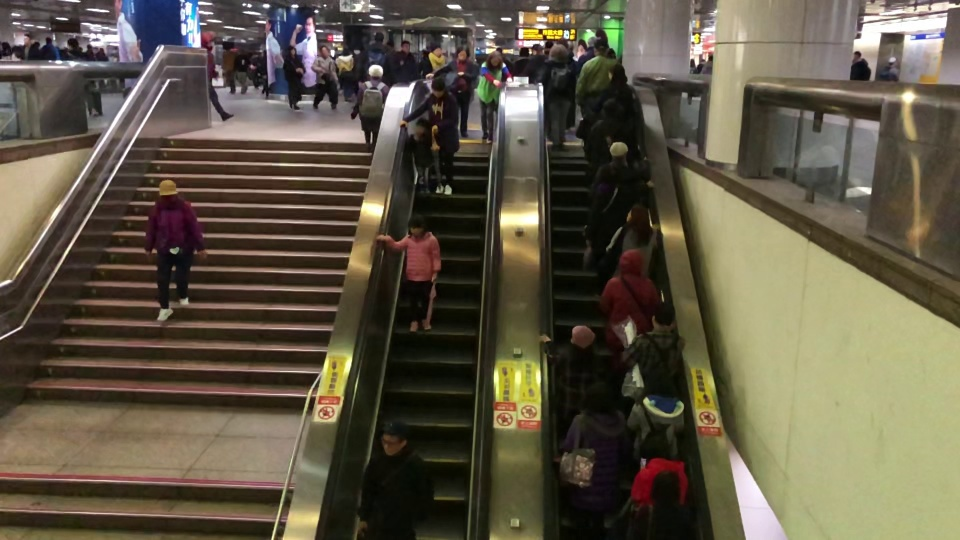person_head: (650, 468, 682, 505), (379, 419, 410, 456), (645, 366, 673, 398), (584, 380, 611, 413), (641, 428, 670, 456), (617, 247, 646, 274), (650, 302, 676, 330), (570, 323, 596, 348), (598, 98, 625, 120), (606, 161, 629, 184), (158, 178, 179, 202), (624, 205, 649, 225), (607, 141, 629, 163), (405, 212, 426, 234), (604, 129, 627, 149), (607, 62, 628, 81), (550, 44, 567, 64), (593, 40, 611, 58), (430, 77, 445, 97), (488, 50, 502, 69), (368, 63, 384, 79), (201, 30, 214, 48), (414, 118, 426, 134), (456, 45, 469, 59), (68, 36, 80, 51), (373, 31, 385, 44), (319, 44, 330, 58), (518, 46, 529, 59), (530, 44, 543, 55), (887, 55, 897, 69), (22, 32, 32, 45), (400, 39, 410, 52), (432, 44, 442, 56), (587, 36, 599, 46), (287, 46, 297, 57), (343, 45, 354, 54), (853, 51, 862, 61), (707, 53, 715, 61), (45, 36, 52, 45), (690, 58, 695, 65)
person_vbox: (561, 380, 627, 534), (142, 178, 211, 323), (356, 418, 436, 540), (594, 161, 656, 300), (375, 211, 442, 333), (400, 76, 461, 197), (539, 323, 610, 419), (599, 247, 660, 351), (626, 364, 686, 458), (622, 302, 687, 386), (425, 44, 480, 137), (628, 428, 688, 513), (604, 204, 661, 276), (638, 469, 693, 540), (349, 63, 390, 157), (541, 44, 576, 150), (588, 141, 650, 199), (477, 49, 513, 145), (585, 97, 637, 162), (584, 62, 635, 126), (201, 28, 234, 119), (575, 41, 622, 95), (357, 31, 399, 85), (407, 117, 435, 197), (309, 44, 340, 109), (283, 46, 306, 112), (336, 44, 356, 103), (421, 44, 448, 77), (396, 40, 418, 76), (523, 44, 544, 77), (849, 51, 869, 81), (878, 55, 899, 81), (43, 34, 61, 63), (22, 31, 38, 61), (65, 36, 85, 60), (688, 56, 697, 105), (700, 53, 715, 75)
